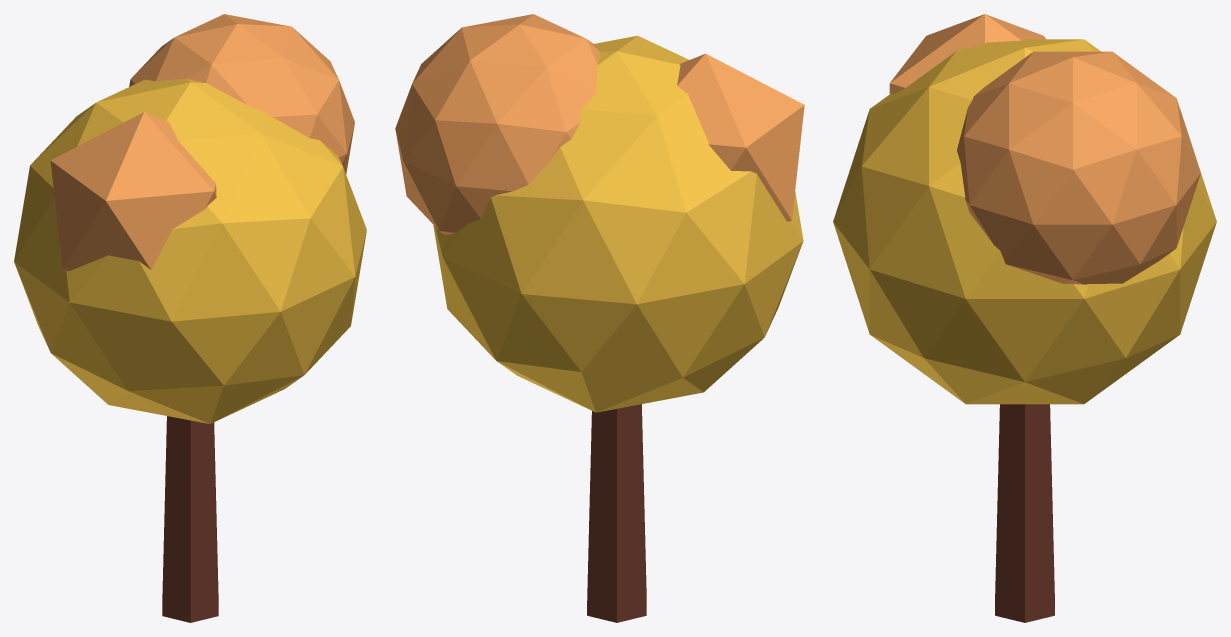
Rendered from P_TreeAutumn.fbx.
The picture shows the model from 3 angles, left to right: view 1: azimuth 30°, elevation 25°; view 2: azimuth 150°, elevation 25°; view 3: azimuth 270°, elevation 25°; orthographic projection. The views are drawn at different scales.
Parts seen in each view (by area): view 1: P_TreeAutumn; view 2: P_TreeAutumn; view 3: P_TreeAutumn.
Part boxes in pixels (<box>): P_TreeAutumn: <box>14,14,366,622</box>; P_TreeAutumn: <box>395,14,804,622</box>; P_TreeAutumn: <box>833,14,1216,622</box>.
Size of the model in its own units: 1.46 by 2.43 by 1.44.
